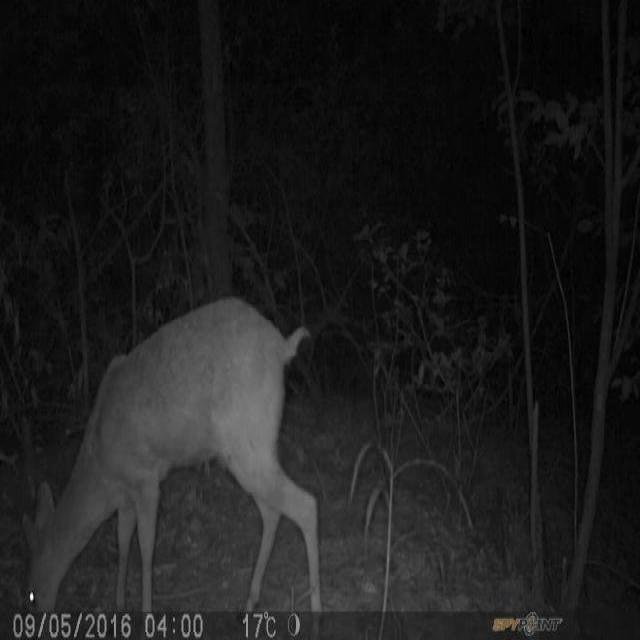deer: (22, 293, 324, 611)
